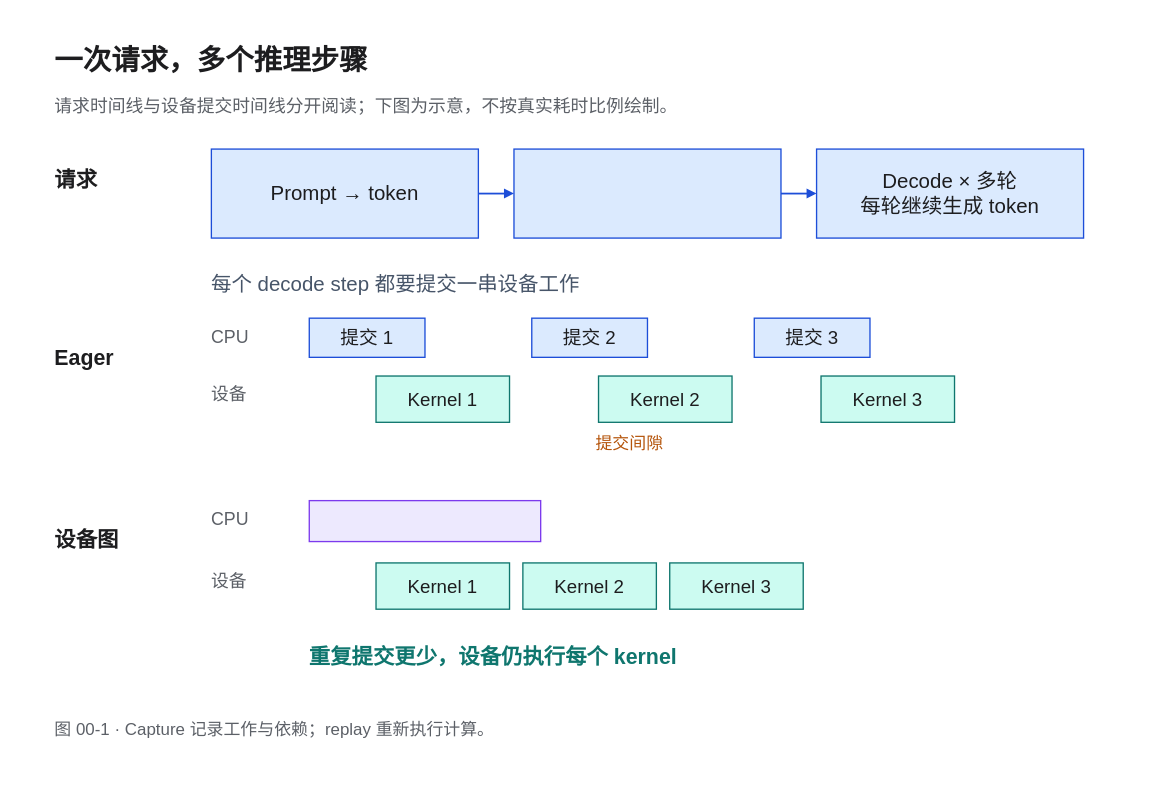
This 1169x787 diagram has some shape labels left out. The shapes that lost their labels are listed below. From the top down, each one's centre as x and y in pixels, then its label:
At point 647,193: "Prefill 处理输入、建立 KV cache".
At point 424,521: "一次 graph launch".
